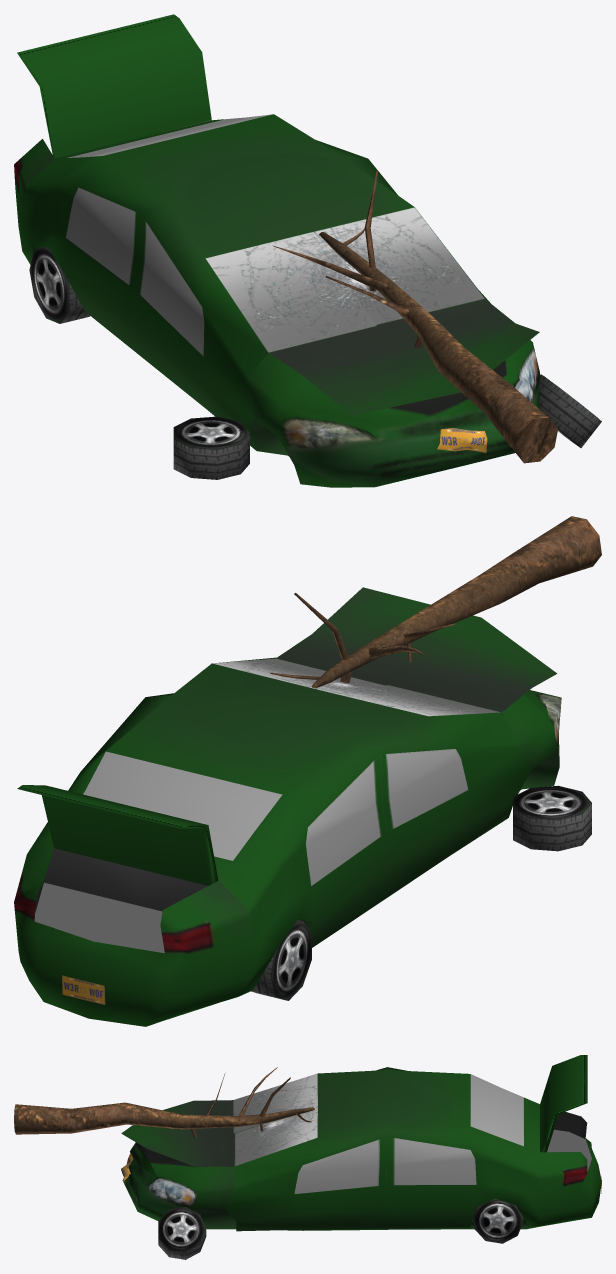
Rendered from Car.fbx.
The picture shows the model from 3 angles, top to bottom: view 1: azimuth 30°, elevation 25°; view 2: azimuth 150°, elevation 25°; view 3: azimuth 270°, elevation 25°; orthographic projection. The views are drawn at different scales.
Parts seen in each view (by area): view 1: polySurface11, Tree1:polySurface296; view 2: polySurface11, Tree1:polySurface296; view 3: polySurface11, Tree1:polySurface296.
Boxes of the visible parts, x1,y1,x2,y2 form: polySurface11: (14, 14, 601, 487); Tree1:polySurface296: (273, 170, 557, 463); polySurface11: (14, 587, 591, 1026); Tree1:polySurface296: (270, 516, 601, 688); polySurface11: (121, 1055, 601, 1259); Tree1:polySurface296: (14, 1067, 314, 1137).
Bounding box in the file's own units: 406 × 247 × 885.
2 materials, 2 textured.
